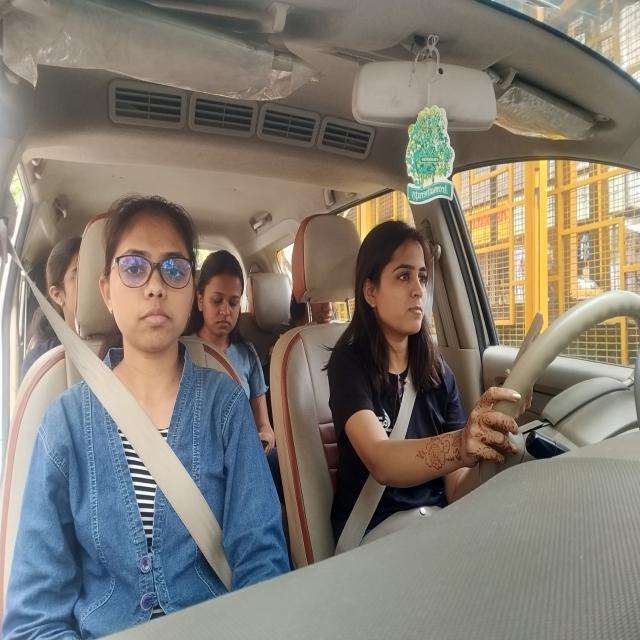person: (97, 185, 200, 388), (356, 203, 438, 349), (186, 229, 248, 355), (31, 235, 80, 332)
